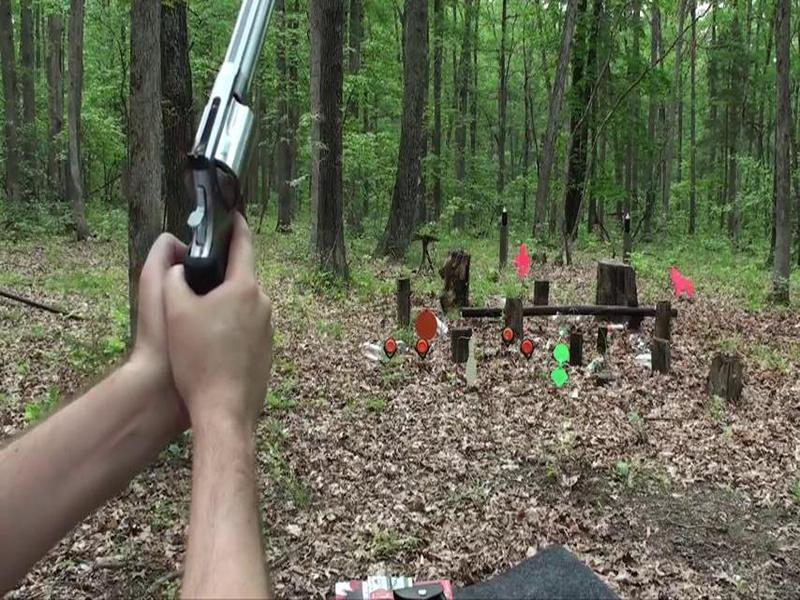Revolver: (132, 1, 317, 336)
